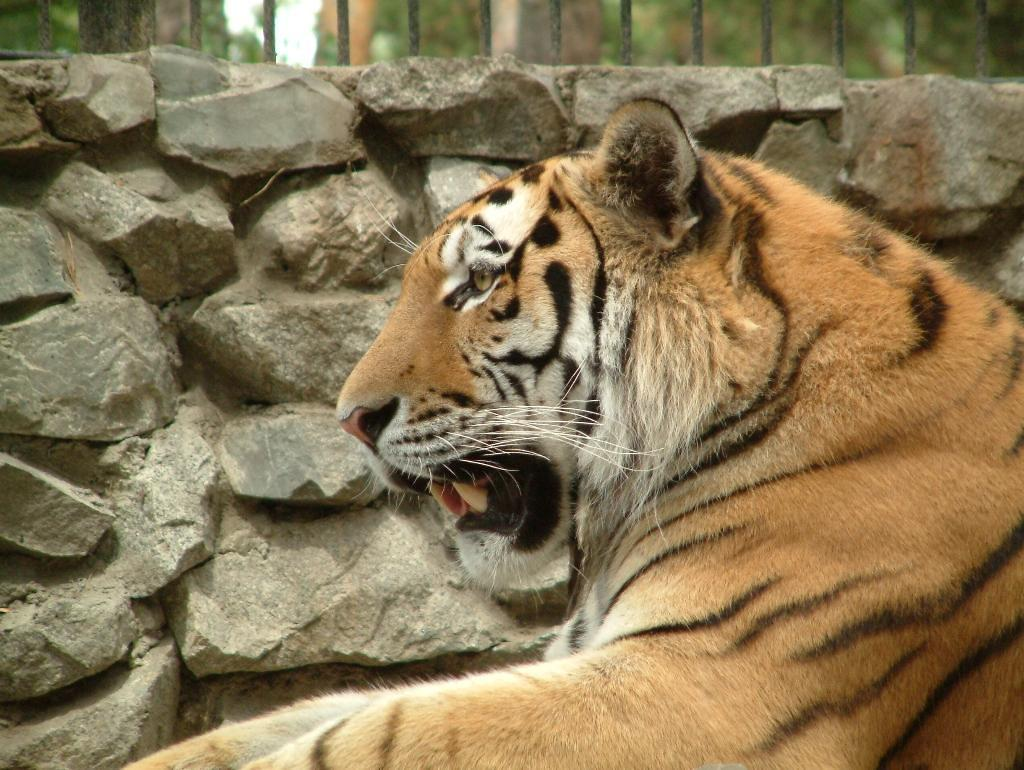tiger: (121, 96, 1023, 769)
